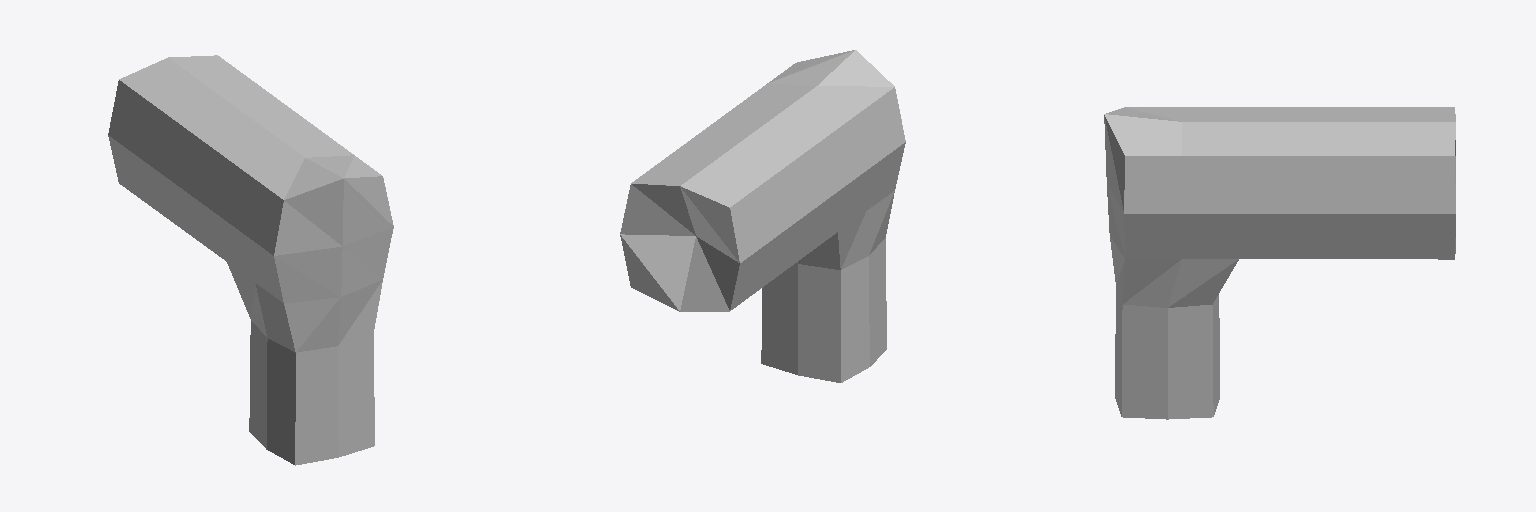
The model's file is gun.obj.
3 views of the same model, side by side, from view 1: azimuth 30°, elevation 25°; view 2: azimuth 150°, elevation 25°; view 3: azimuth 270°, elevation 25° (orthographic).
Visible parts, largest first — view 1: Cube; view 2: Cube; view 3: Cube.
Boxes of the visible parts, <box> form: Cube: <box>108,55,393,465</box>; Cube: <box>620,50,905,382</box>; Cube: <box>1104,107,1455,419</box>.
Size of the model in its own units: 1.45 by 3.28 by 3.68.